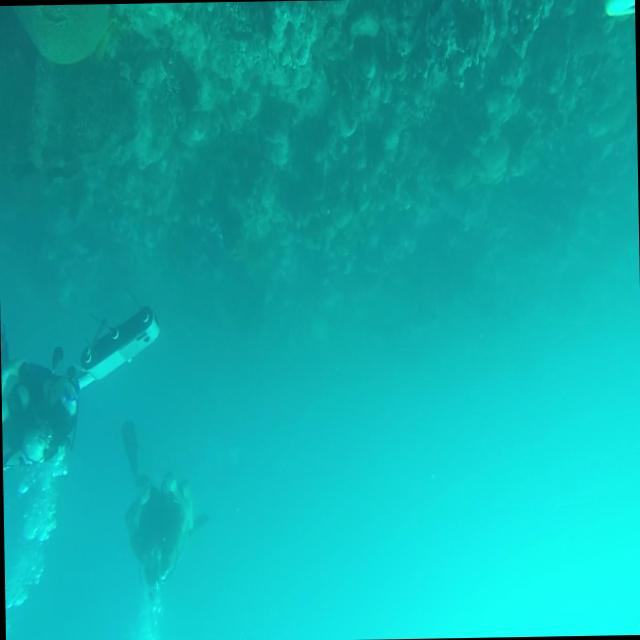human: (120, 418, 210, 598), (0, 331, 81, 474)
